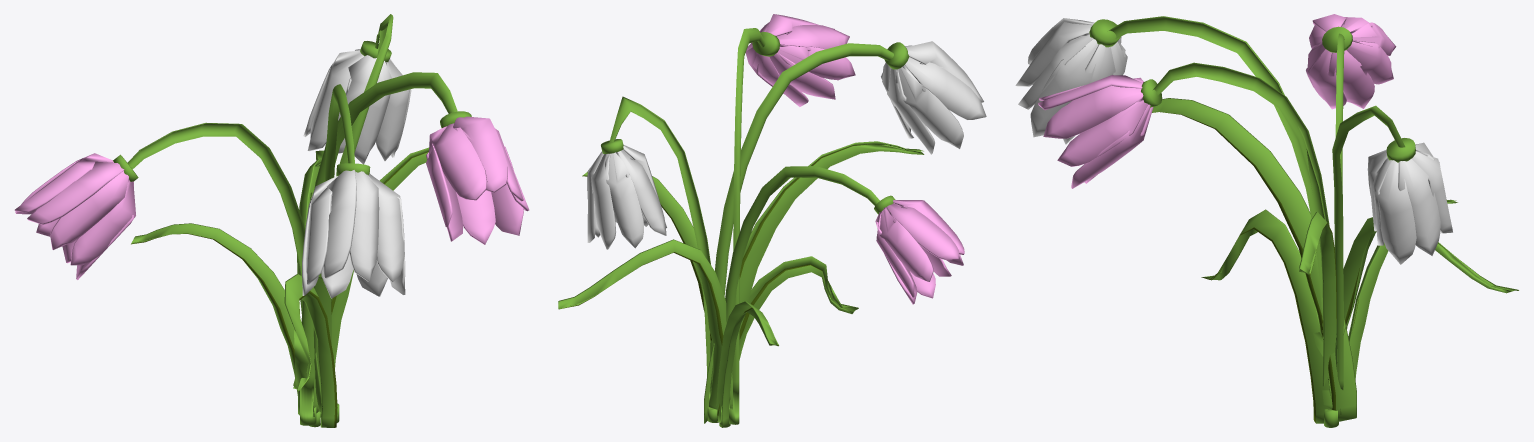
The model's file is Tulips.fbx.
3 renders of one model, left to right at view 1: azimuth 30°, elevation 25°; view 2: azimuth 150°, elevation 25°; view 3: azimuth 270°, elevation 25°, orthographic. The views are drawn at different scales.
Visible parts, largest first — view 1: lakegrass.006; view 2: lakegrass.006; view 3: lakegrass.006.
Boxes of the visible parts, bbox=[...] form: lakegrass.006: bbox=[14, 14, 529, 427]; lakegrass.006: bbox=[558, 14, 986, 427]; lakegrass.006: bbox=[1015, 14, 1518, 427].
Size of the model in its own units: 213 by 172 by 207.
